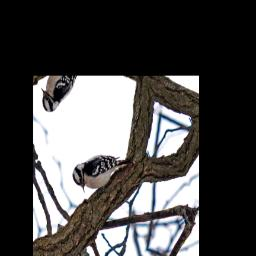Woodpecker: (70, 132, 136, 211)
